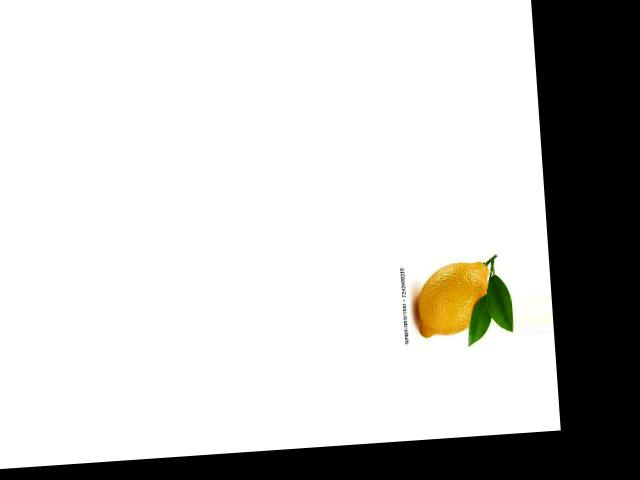lemon: (412, 255, 504, 345)
